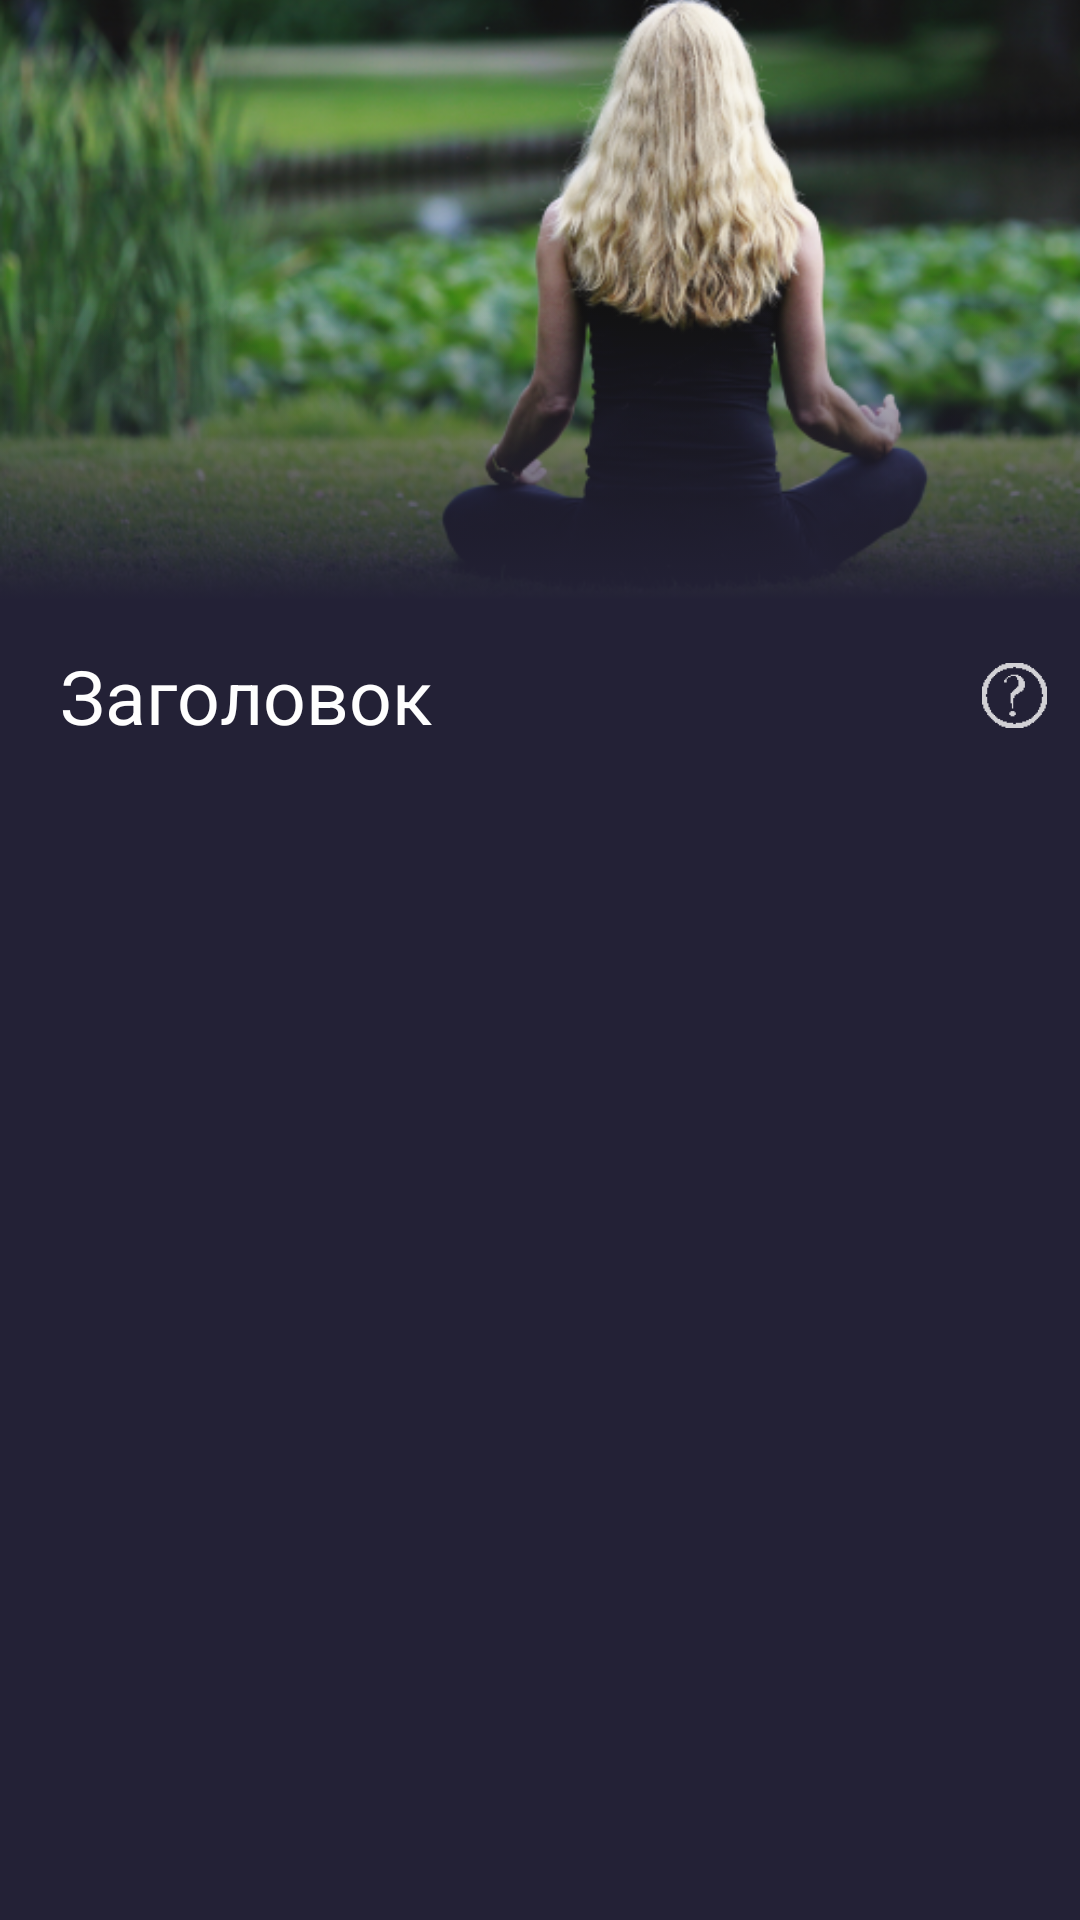

Icons on this 1080px x 1920px Android screen, each with its box as [x1,y1,x2,y2]:
about: [982,663,1047,728]
